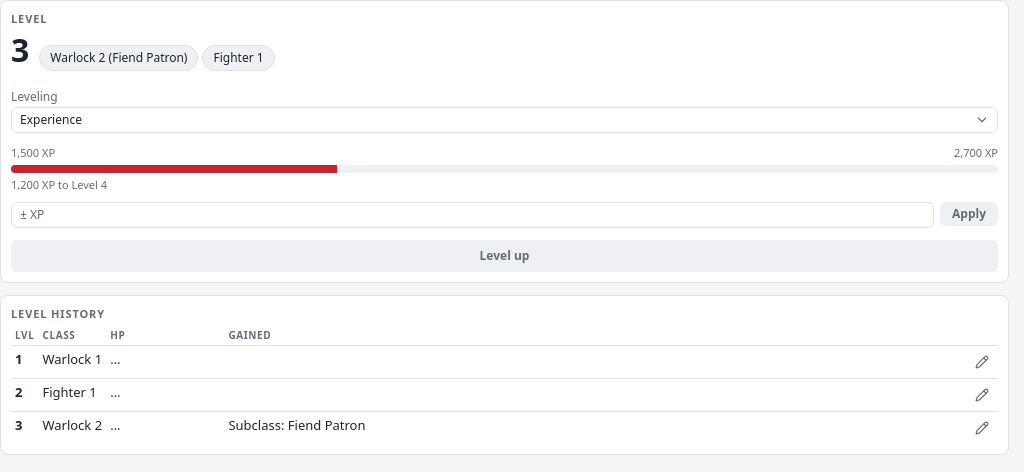
Scenario: LevelSection › adds experience to the stored total and clears the field
In the number field named "Adjust experience points": (472, 214) [11,202,934,228], type "250"
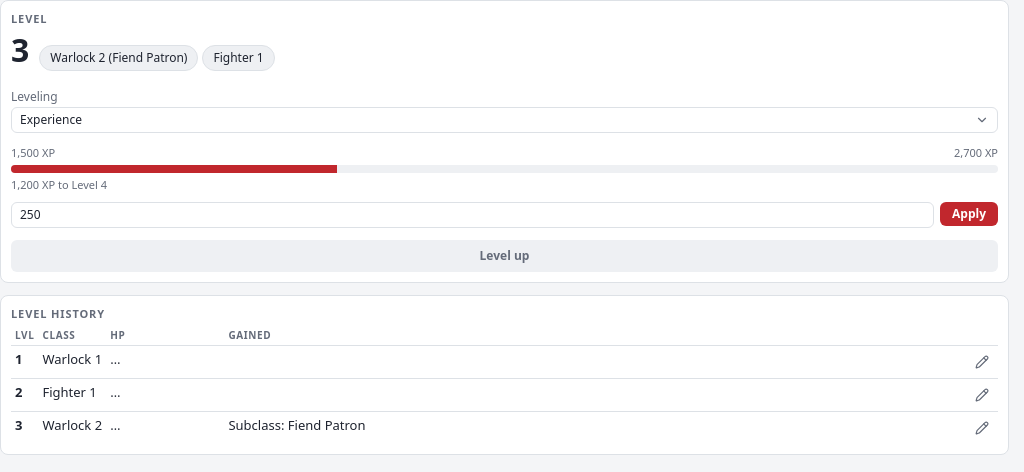
Click the button "Apply": (969, 214) [940,202,998,226]
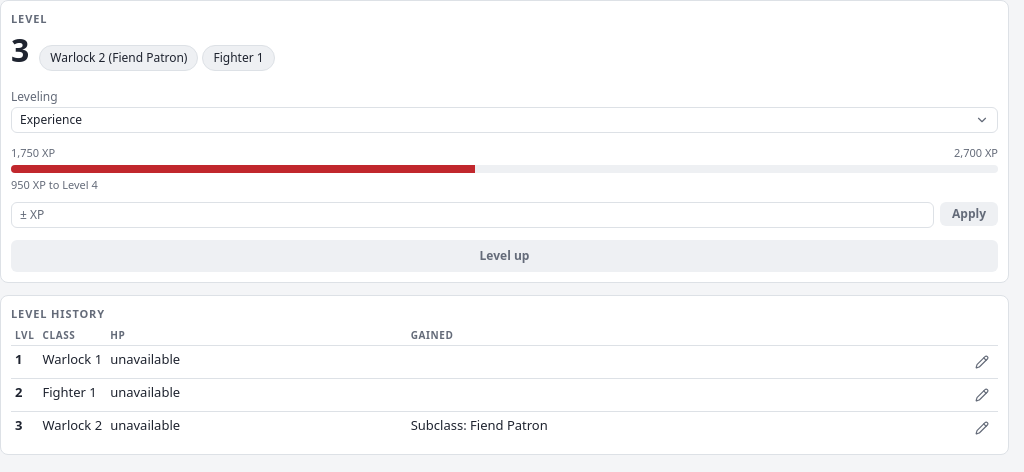
Expected: the number field named "Adjust experience points" is not empty, [11,202,934,228]
Expected: the text "1,750 XP" is shown, [11,144,55,161]
